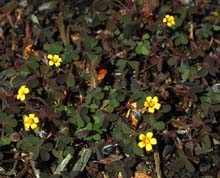oxalis: (51, 72, 146, 145)
